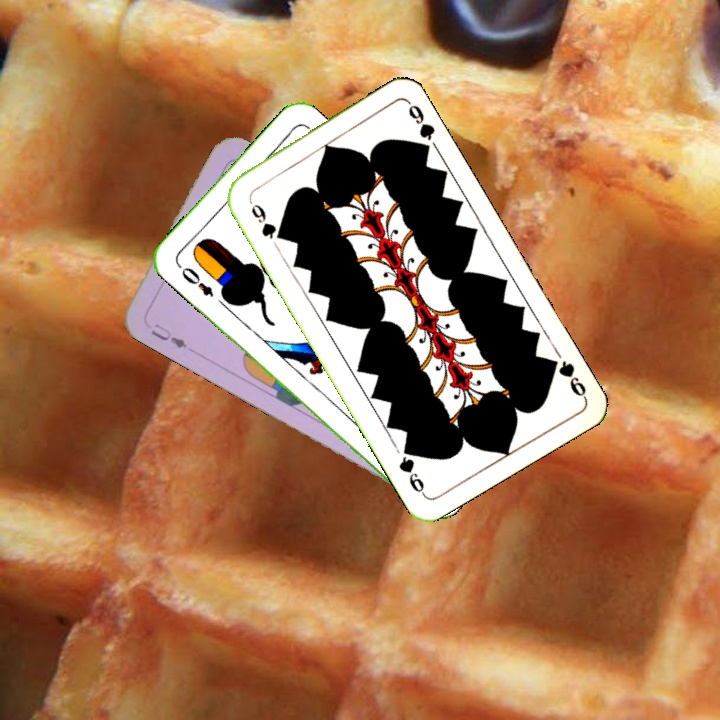EO: (177, 263, 217, 300)
EU: (147, 319, 190, 351)
G9: (543, 354, 589, 401), (244, 194, 286, 243)
